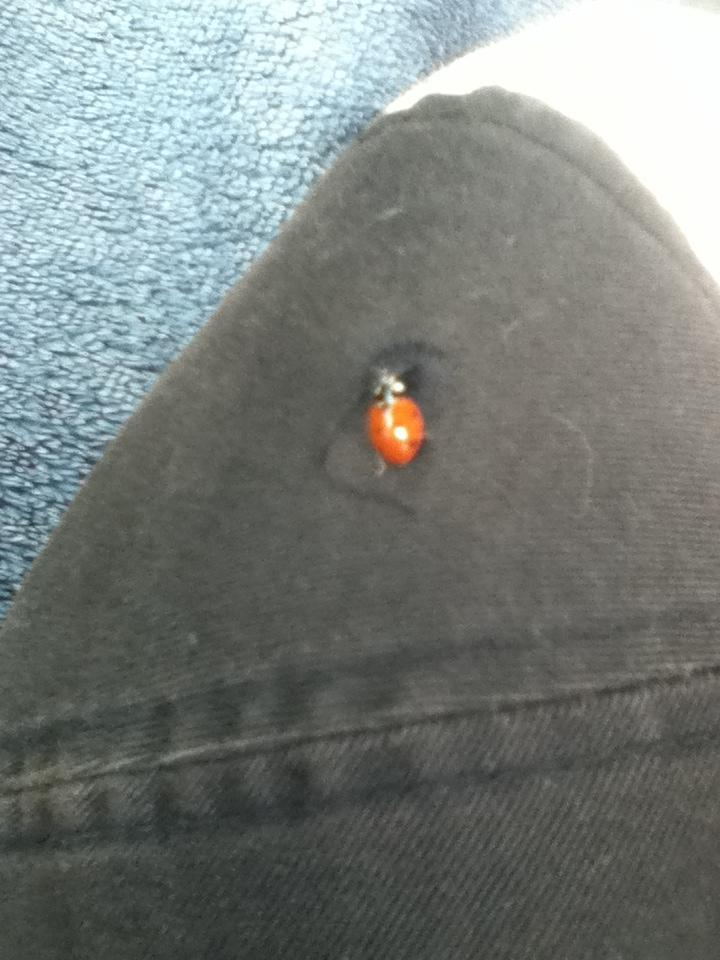ladybug: (369, 366, 428, 471)
